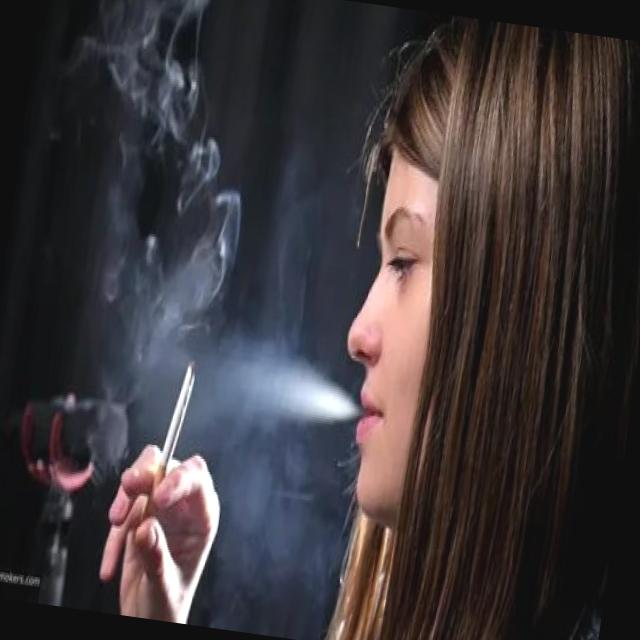cigarette: (144, 356, 201, 525)
